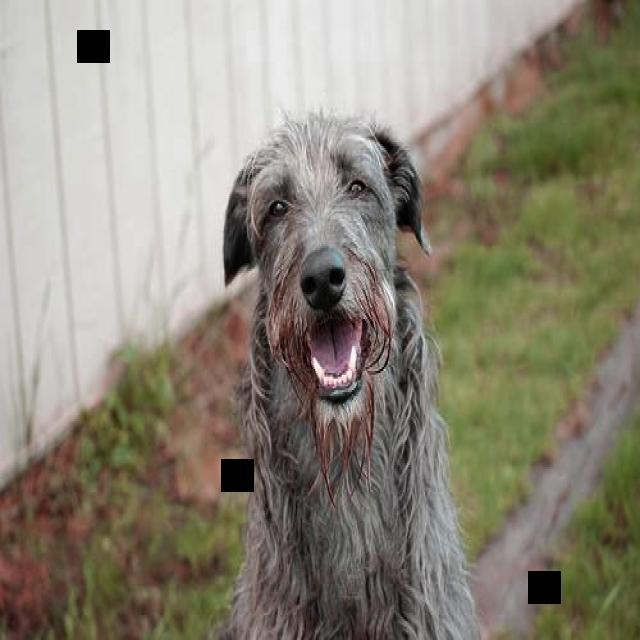adult_dog: (212, 110, 485, 640)
